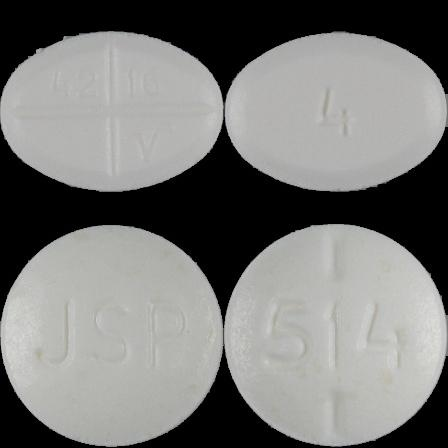35356-763: (0, 0, 224, 224)
